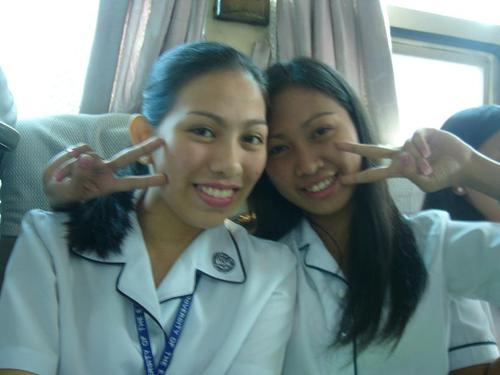without_mask: (138, 73, 268, 229), (263, 87, 363, 216)
